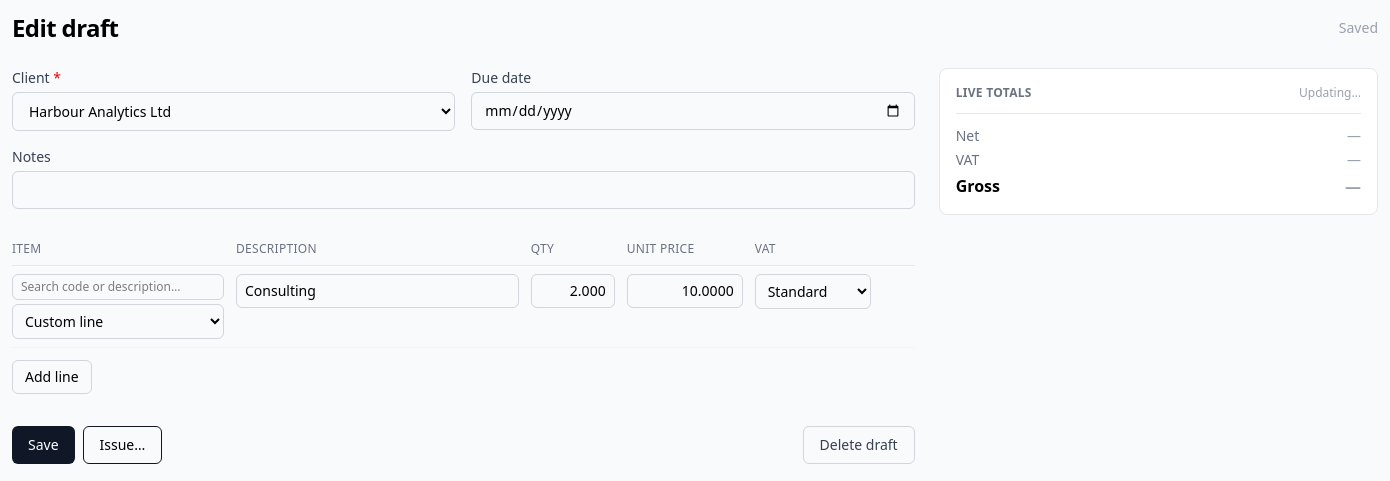
Scenario: invoice editor live totals › shows exactly the server-returned strings after the debounce
Expected: the field showing "Consulting" is shown, [236,274,519,308]
Replace the text in the field named "Unit price 1" with "650.0000": (685, 291) [627,274,743,308]
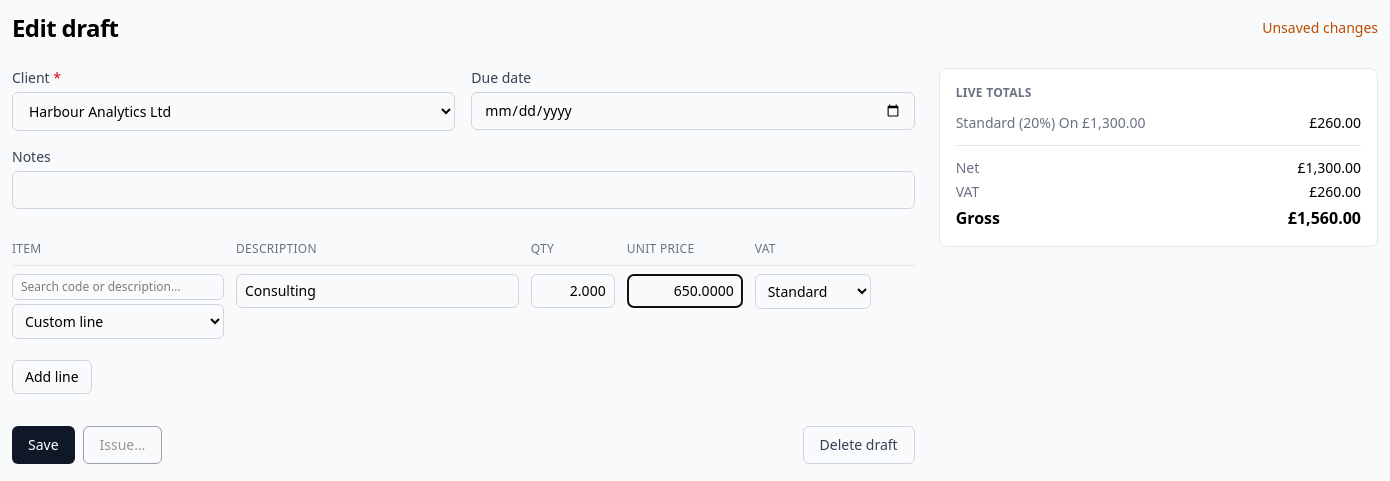
Result: the text with test id "total-net" reads "£1,300.00" at [1297,158,1361,177]
Result: the text with test id "total-vat" reads "£260.00" at [1309,182,1361,201]
Result: the text with test id "total-gross" reads "£1,560.00" at [1288,207,1361,229]
